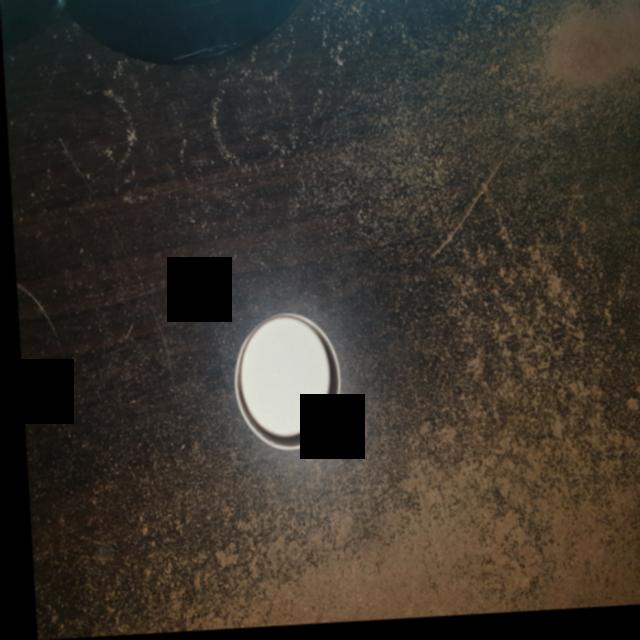cups: (224, 312, 343, 463)
